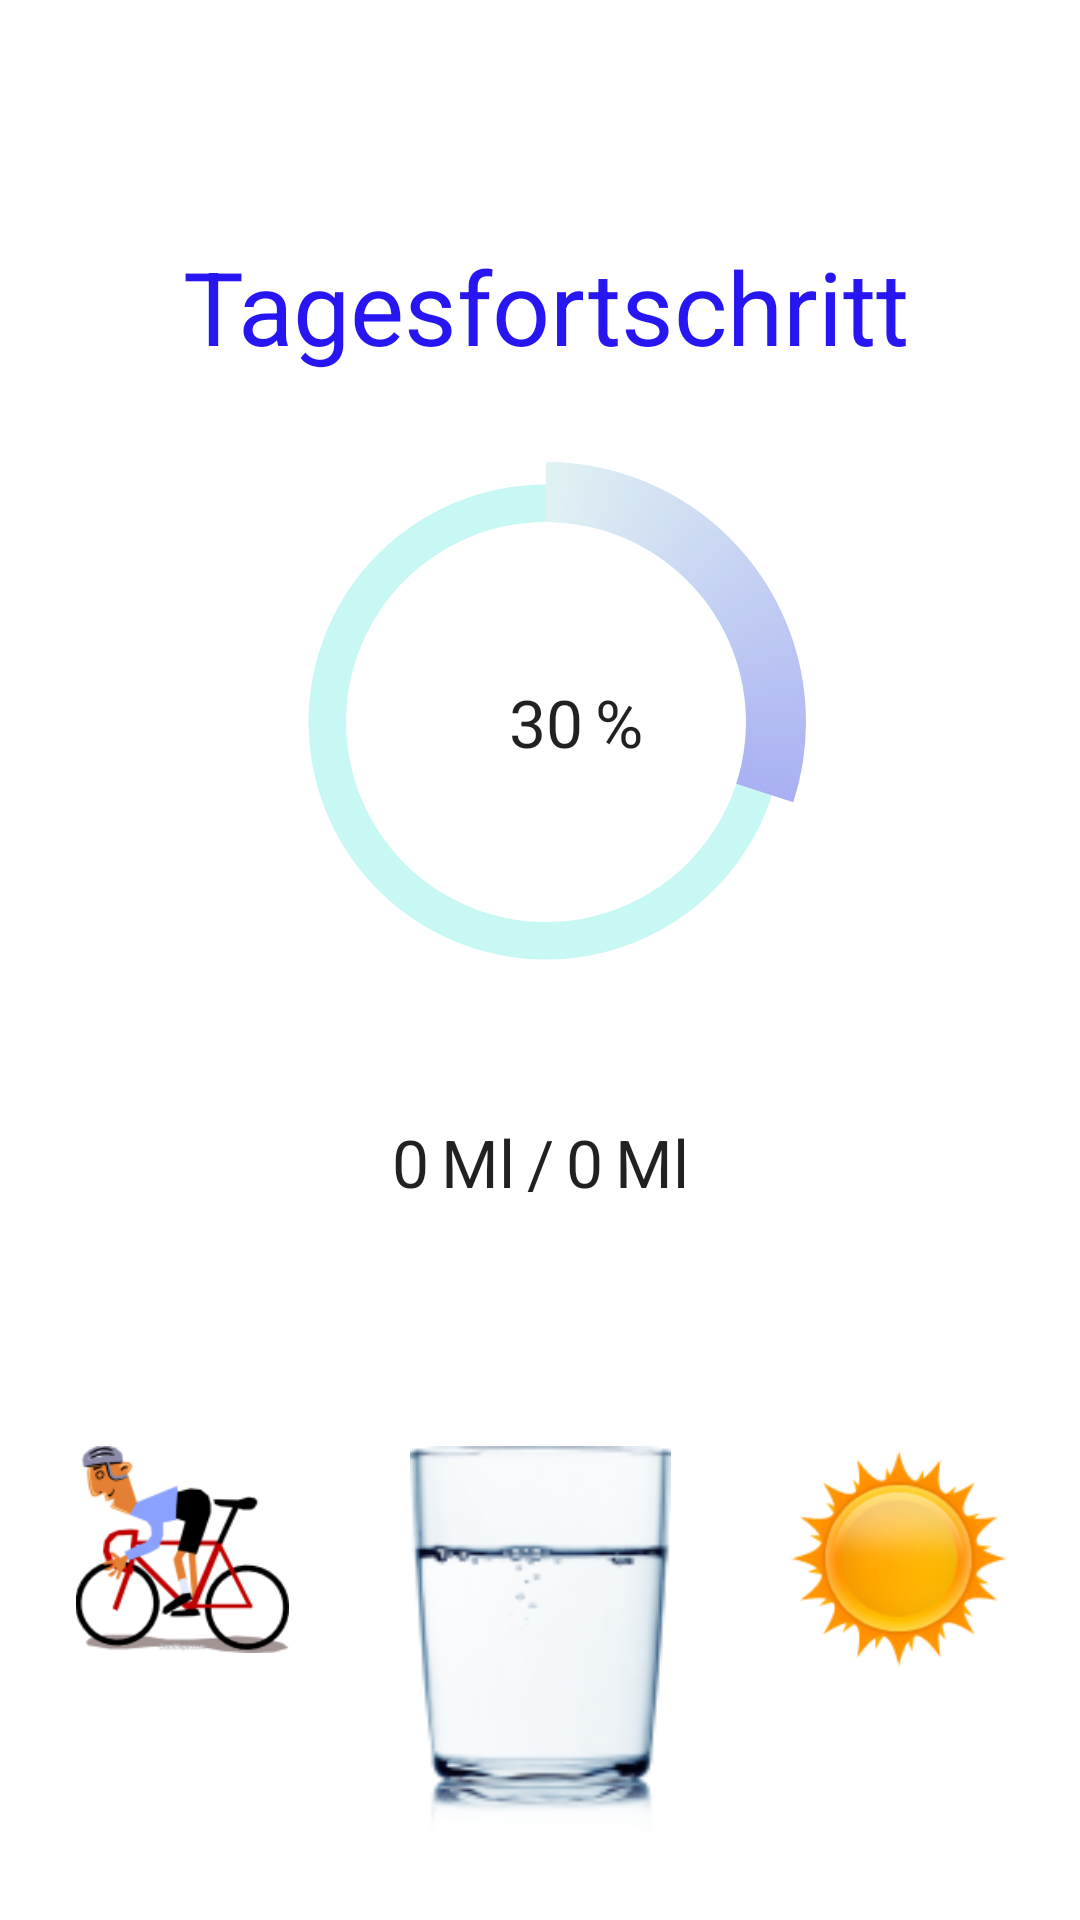

Where to tap for icons on this 1080px x 1920px app screen, as (x=x, y=y):
cycling: (x=182, y=1549)
sun: (x=898, y=1558)
